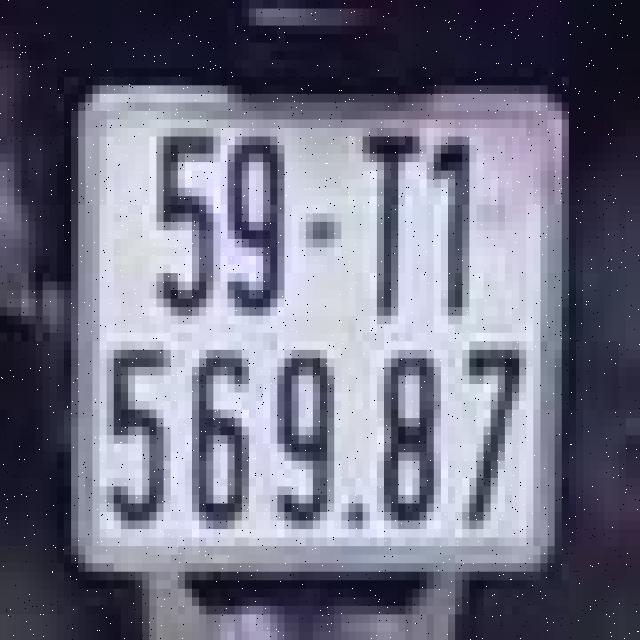1: (423, 119, 480, 316)
5: (96, 337, 181, 533), (150, 115, 220, 329)
6: (178, 333, 256, 529)
7: (455, 337, 526, 542)
8: (366, 337, 444, 525)
9: (267, 332, 345, 538), (224, 124, 295, 320)
T: (352, 119, 423, 333)
